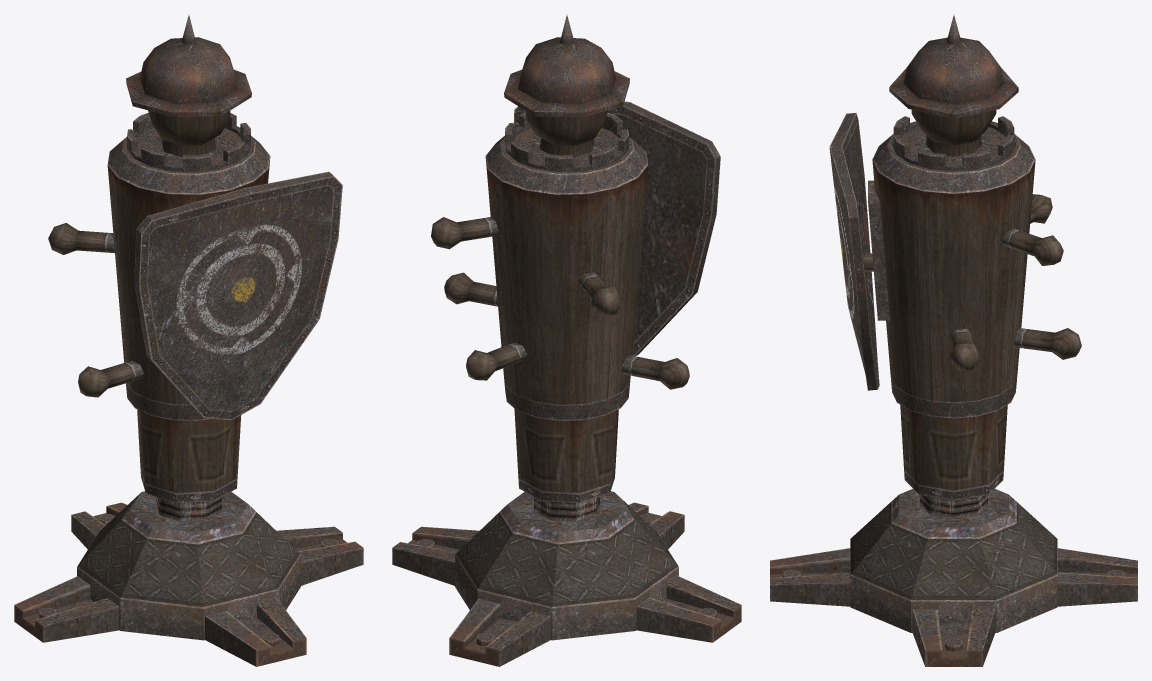
Rendered from Dummy.fbx.
3 views of the same model, side by side, from view 1: azimuth 30°, elevation 25°; view 2: azimuth 150°, elevation 25°; view 3: azimuth 270°, elevation 25° (orthographic).
Visible parts, largest first — view 1: gar_b0_m0193 Part 0.0; view 2: gar_b0_m0193 Part 0.0; view 3: gar_b0_m0193 Part 0.0.
Boxes of the visible parts, x1,y1,x2,y2 form: gar_b0_m0193 Part 0.0: [14, 15, 363, 666]; gar_b0_m0193 Part 0.0: [392, 15, 741, 666]; gar_b0_m0193 Part 0.0: [770, 15, 1137, 666].
Bounding box in the file's own units: 1.33 × 2.3 × 1.33.
1 material, 1 textured.
